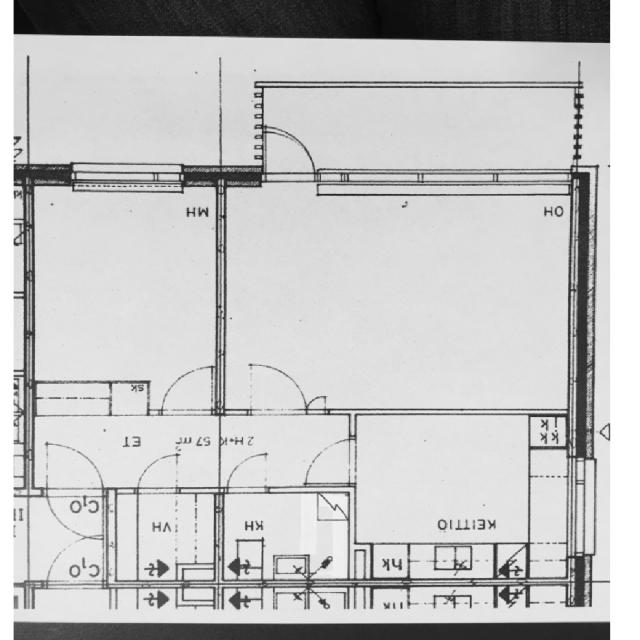door: (248, 361, 308, 415), (159, 362, 218, 415), (45, 537, 106, 588), (303, 436, 357, 488), (261, 124, 314, 172), (224, 449, 272, 495), (136, 450, 181, 495), (304, 392, 331, 414)
window: (70, 167, 186, 193), (13, 184, 40, 278), (46, 578, 107, 594)
zone: (21, 177, 223, 409), (348, 409, 551, 573), (217, 489, 352, 584), (106, 489, 222, 585), (42, 538, 108, 588)
